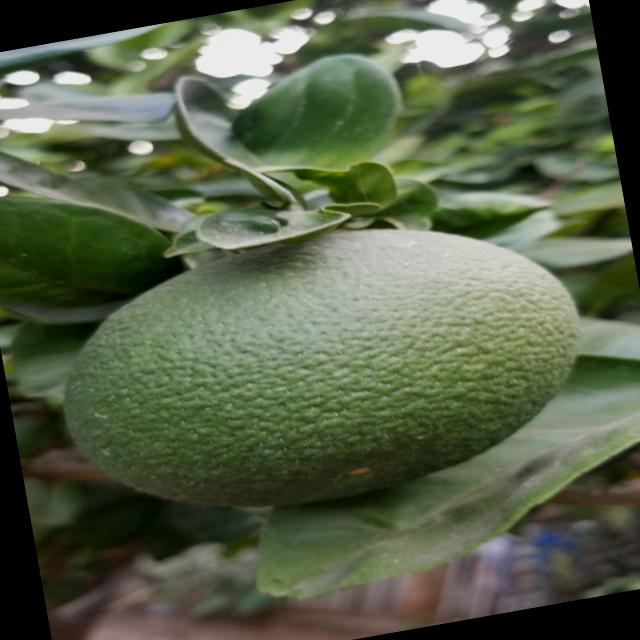Unripe: (59, 185, 596, 542)
